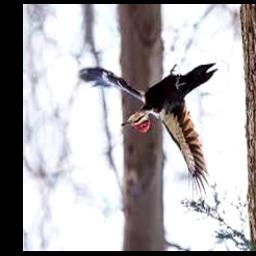Woodpecker: (78, 64, 217, 198)
